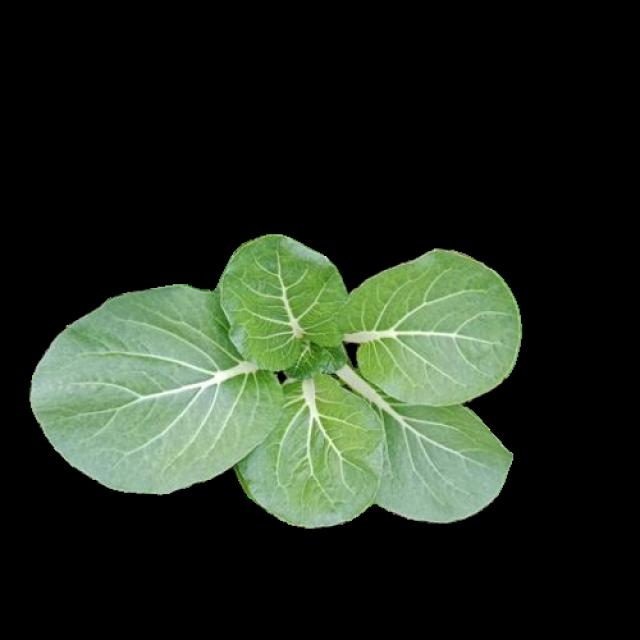healthy: (30, 230, 517, 525)
not-mature: (29, 242, 518, 521)
